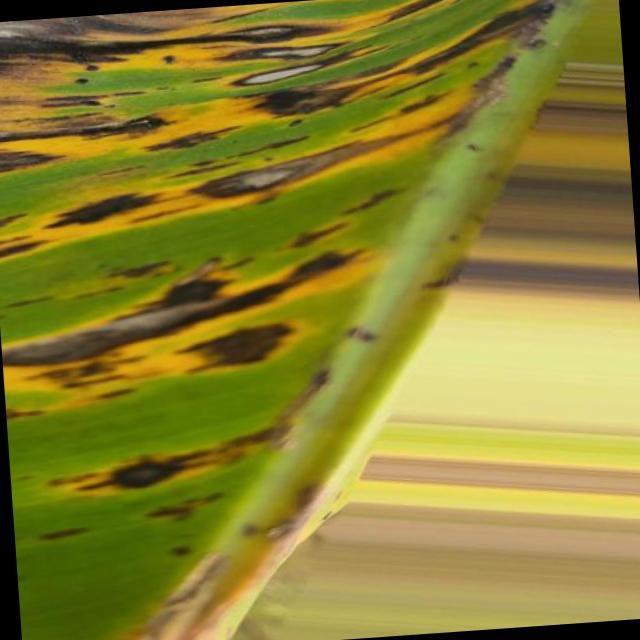Banana_Black_Sigatoka: (6, 173, 378, 595), (0, 0, 602, 185)
